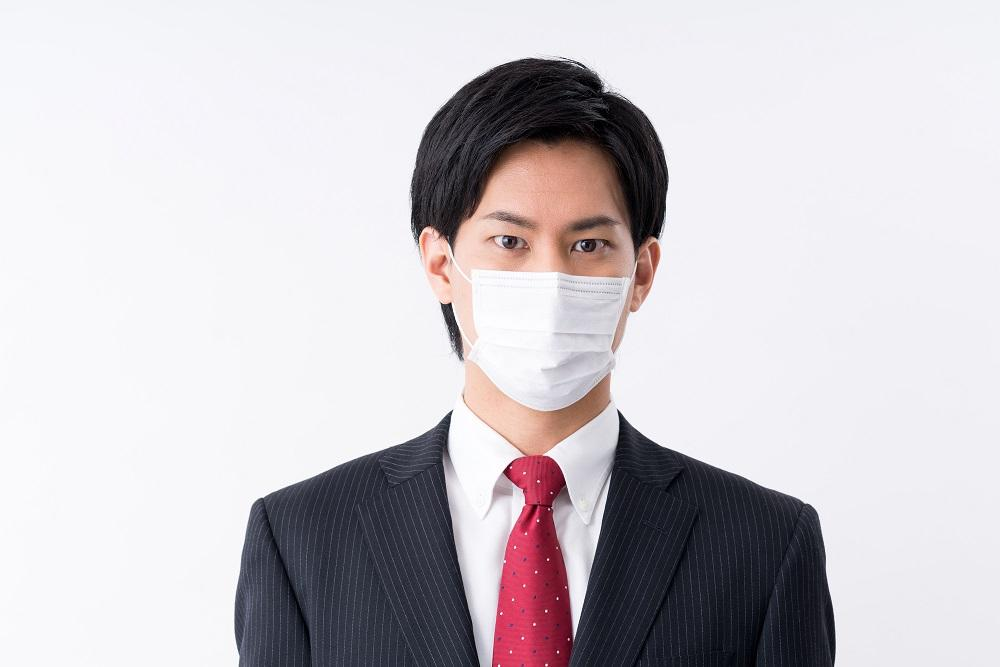mask: (454, 148, 640, 394)
